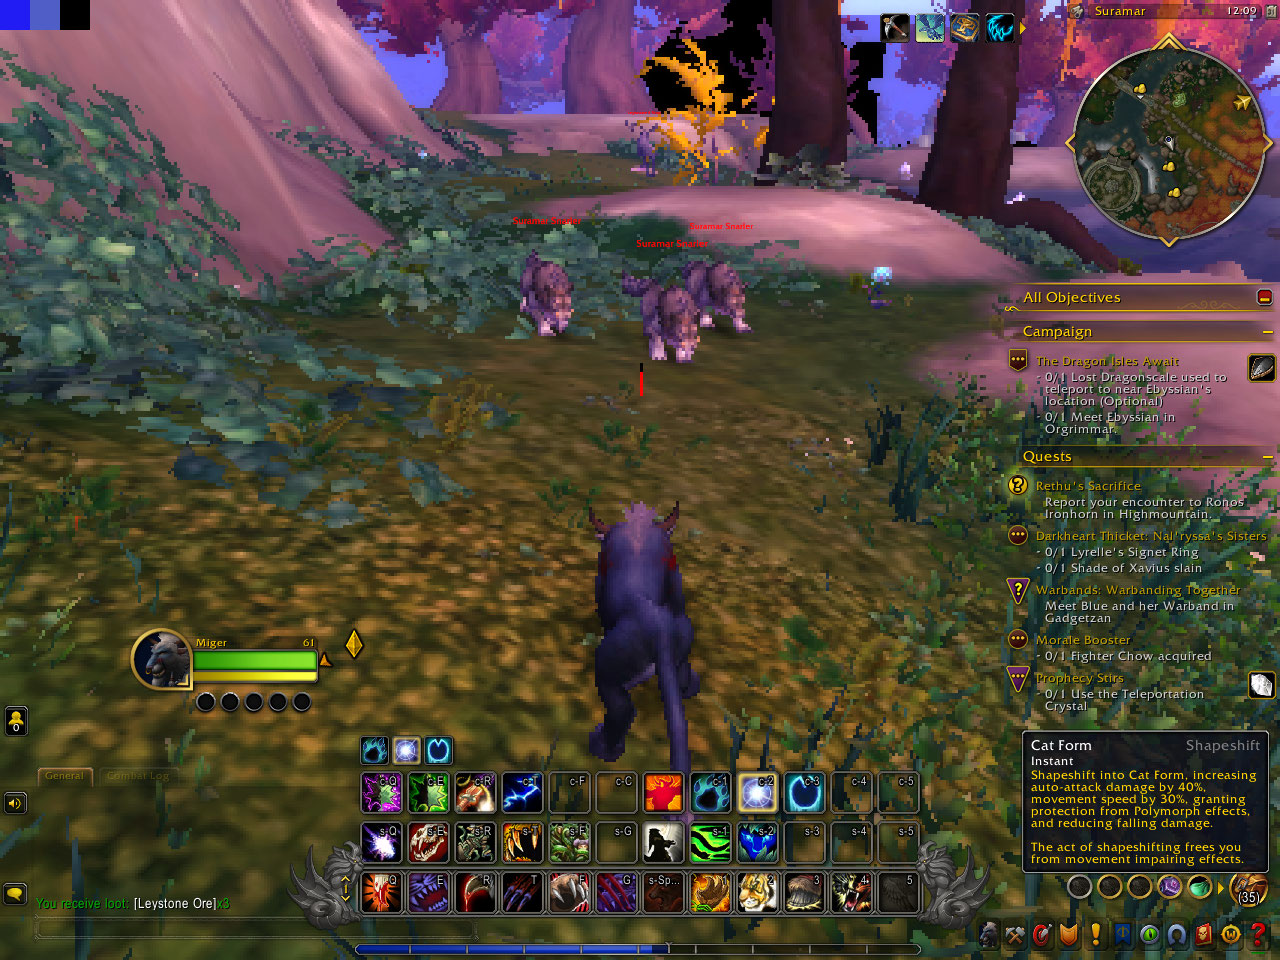ore: (892, 158, 916, 182)
